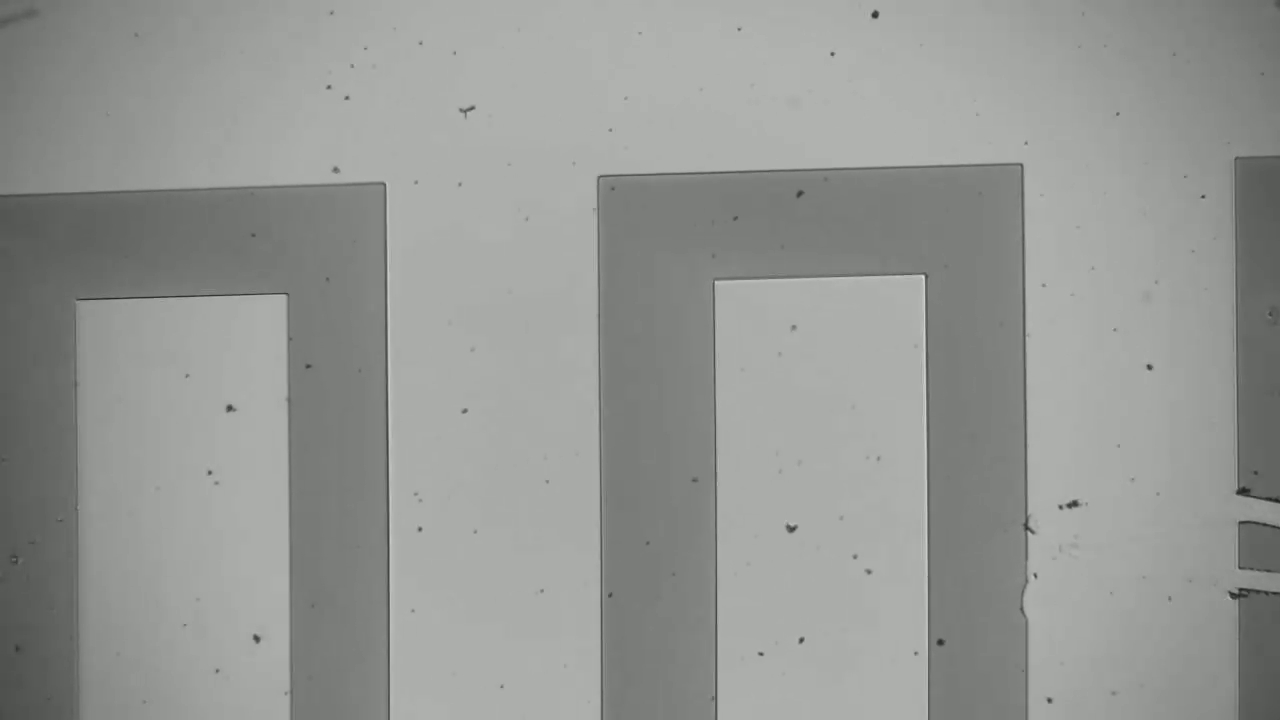Short_circuit: (1203, 454, 1280, 556), (1213, 546, 1280, 614)
